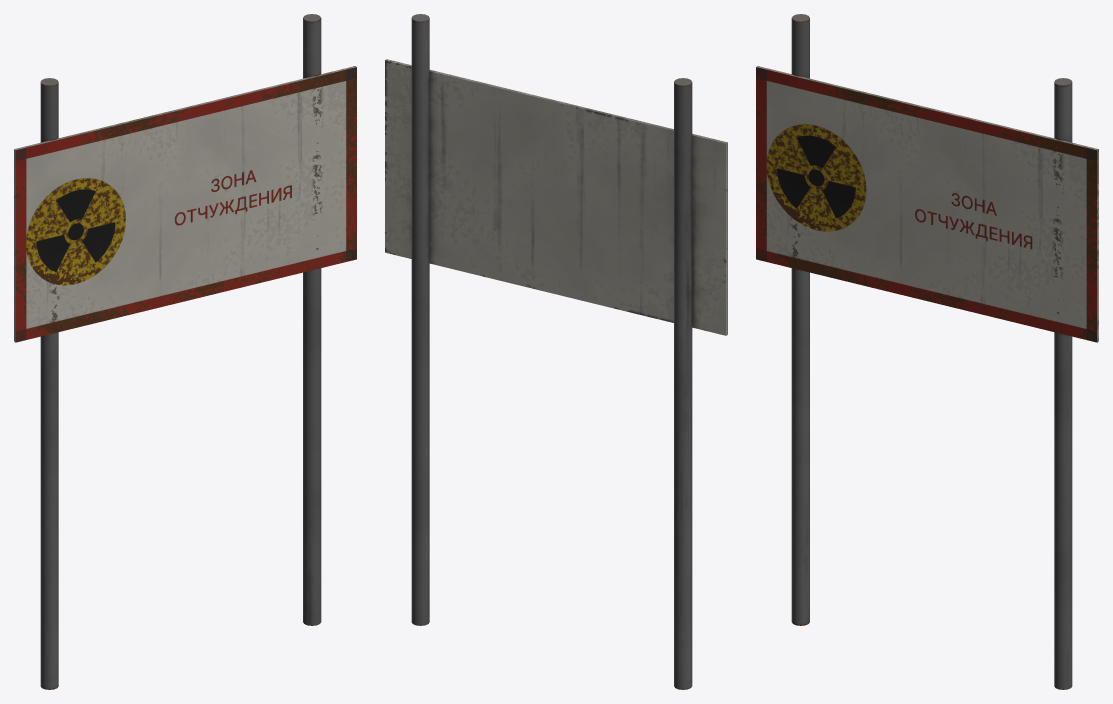
The model's file is SM_ZoneSign_Exclusion.fbx.
The picture shows the model from 3 angles, left to right: view 1: azimuth 30°, elevation 25°; view 2: azimuth 150°, elevation 25°; view 3: azimuth 330°, elevation 25°; orthographic projection.
Visible parts, largest first — view 1: SM_ZoneSign_Exclusion; view 2: SM_ZoneSign_Exclusion; view 3: SM_ZoneSign_Exclusion.
Part boxes in pixels (bbox=[...]): SM_ZoneSign_Exclusion: bbox=[14, 14, 356, 689]; SM_ZoneSign_Exclusion: bbox=[385, 14, 727, 689]; SM_ZoneSign_Exclusion: bbox=[756, 14, 1098, 689].
Bounding box in the file's own units: 1.3 × 2.2 × 0.0666.
Materials: 1 (1 with a texture image).
